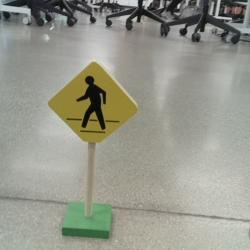pedestrian_crossing: (48, 61, 139, 143)
